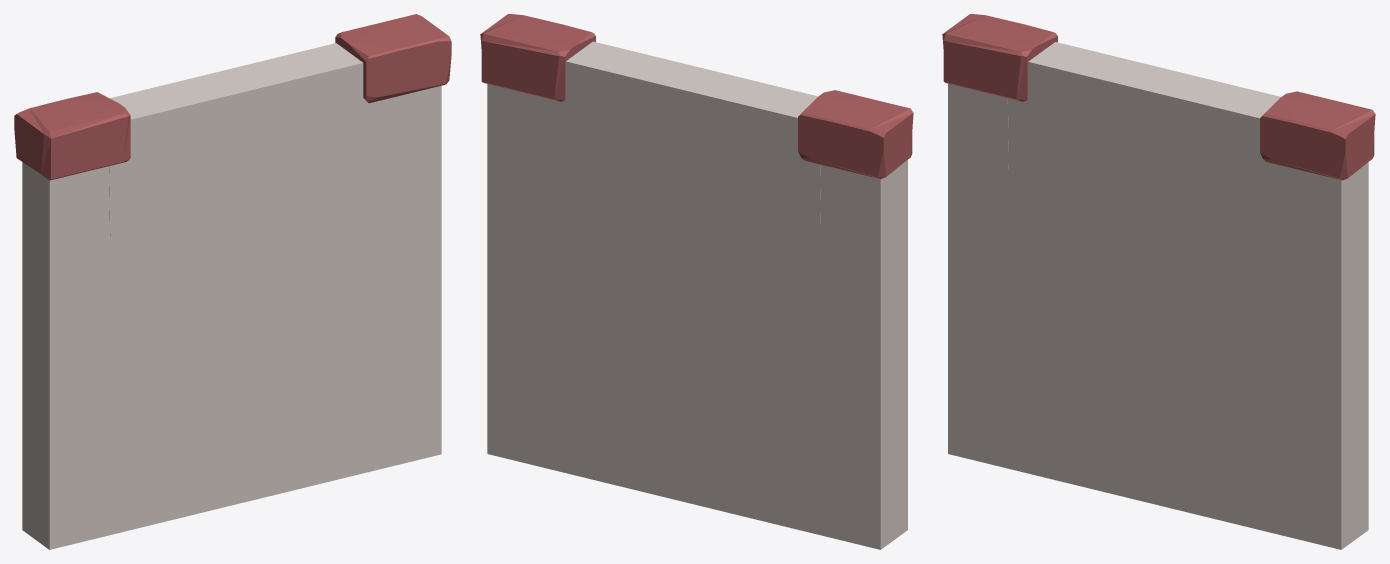
Rendered from PKF_PK_Wall_Plain_v1.fbx.
The picture shows the model from 3 angles, left to right: view 1: azimuth 30°, elevation 25°; view 2: azimuth 150°, elevation 25°; view 3: azimuth 330°, elevation 25°; orthographic projection.
Visible parts, largest first — view 1: PK_Wall_Plain_Chunk_10, PK_Wall_Plain_Chunk_15, PK_Wall_Plain_Chunk_18, PK_Wall_Plain_Chunk_05, PK_Wall_Plain_Chunk_06, PK_Wall_Plain_Chunk_17, PK_Wall_Plain_Chunk_01, PK_Wall_Plain_Chunk_16, PK_Wall_Plain_Chunk_02, PK_Wall_Plain_Chunk_11, PK_Wall_Plain_Chunk_13, PK_Wall_Plain_Chunk_19 (+8 smaller); view 2: PK_Wall_Plain_Chunk_10, PK_Wall_Plain_Chunk_15, PK_Wall_Plain_Chunk_18, PK_Wall_Plain_Chunk_05, PK_Wall_Plain_Chunk_06, PK_Wall_Plain_Chunk_17, PK_Wall_Plain_Chunk_01, PK_Wall_Plain_Chunk_16, PK_Wall_Plain_Chunk_02, PK_Wall_Plain_Chunk_11, PK_Wall_Plain_Chunk_13, PK_Wall_Plain_Chunk_19 (+8 smaller); view 3: PK_Wall_Plain_Chunk_18, PK_Wall_Plain_Chunk_10, PK_Wall_Plain_Chunk_02, PK_Wall_Plain_Chunk_17, PK_Wall_Plain_Chunk_06, PK_Wall_Plain_Chunk_13, PK_Wall_Plain_Chunk_08, PK_Wall_Plain_Chunk_05, PK_Wall_Plain_Chunk_15, PK_Wall_Plain_Chunk_16, PK_Wall_Plain_Chunk_01, PK_Wall_Plain_Chunk_11 (+8 smaller).
Part boxes in pixels (x1,y1,x2,y2): PK_Wall_Plain_Chunk_10: (22,236,176,380); PK_Wall_Plain_Chunk_15: (14,96,111,276); PK_Wall_Plain_Chunk_18: (308,14,451,187); PK_Wall_Plain_Chunk_05: (22,357,168,484); PK_Wall_Plain_Chunk_06: (315,255,441,418); PK_Wall_Plain_Chunk_17: (80,88,200,239); PK_Wall_Plain_Chunk_01: (22,447,180,549); PK_Wall_Plain_Chunk_16: (254,50,342,194); PK_Wall_Plain_Chunk_02: (319,356,441,483); PK_Wall_Plain_Chunk_11: (250,194,356,295); PK_Wall_Plain_Chunk_13: (340,109,441,250); PK_Wall_Plain_Chunk_19: (152,62,284,169); PK_Wall_Plain_Chunk_10: (753,235,907,379); PK_Wall_Plain_Chunk_15: (818,93,913,275); PK_Wall_Plain_Chunk_18: (480,14,621,186); PK_Wall_Plain_Chunk_05: (761,357,907,483); PK_Wall_Plain_Chunk_06: (487,254,614,417); PK_Wall_Plain_Chunk_17: (728,86,849,238); PK_Wall_Plain_Chunk_01: (749,446,907,549); PK_Wall_Plain_Chunk_16: (586,48,675,193); PK_Wall_Plain_Chunk_02: (487,356,609,483); PK_Wall_Plain_Chunk_11: (572,193,679,294); PK_Wall_Plain_Chunk_13: (487,108,588,249); PK_Wall_Plain_Chunk_19: (644,61,777,167); PK_Wall_Plain_Chunk_18: (1234,91,1375,233); PK_Wall_Plain_Chunk_10: (948,169,1075,317); PK_Wall_Plain_Chunk_02: (1219,432,1368,549); PK_Wall_Plain_Chunk_17: (1004,27,1104,194); PK_Wall_Plain_Chunk_06: (1214,307,1368,459); PK_Wall_Plain_Chunk_13: (1239,184,1368,310); PK_Wall_Plain_Chunk_08: (1254,290,1368,449); PK_Wall_Plain_Chunk_05: (948,284,1067,395); PK_Wall_Plain_Chunk_15: (942,14,1035,179); PK_Wall_Plain_Chunk_16: (1153,80,1260,238); PK_Wall_Plain_Chunk_01: (948,388,1079,484); PK_Wall_Plain_Chunk_11: (1149,212,1255,327).
Bounding box in the file's own units: 206 × 204 × 28.81.
